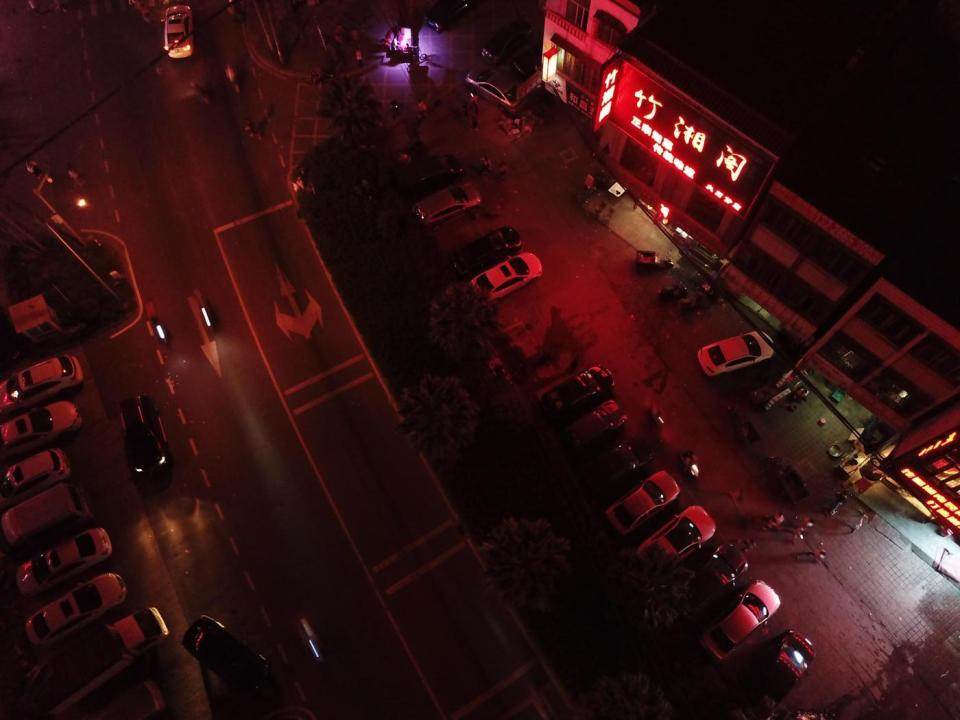car: (724, 624, 816, 720), (22, 568, 129, 648), (180, 614, 277, 700), (697, 579, 783, 664), (13, 527, 114, 599), (117, 394, 176, 497), (636, 503, 717, 574), (605, 468, 680, 540), (0, 352, 86, 414), (682, 540, 750, 615), (1, 398, 83, 459), (582, 434, 656, 497), (542, 363, 616, 421), (466, 251, 544, 304), (448, 225, 523, 279), (696, 330, 776, 378), (1, 445, 74, 497), (412, 179, 483, 228), (562, 398, 627, 450), (92, 677, 169, 720), (464, 63, 529, 113), (398, 152, 466, 198), (481, 19, 536, 64), (509, 38, 557, 83), (158, 3, 195, 58), (421, 0, 468, 34)
truck: (22, 606, 168, 716)
van: (0, 481, 95, 544)
